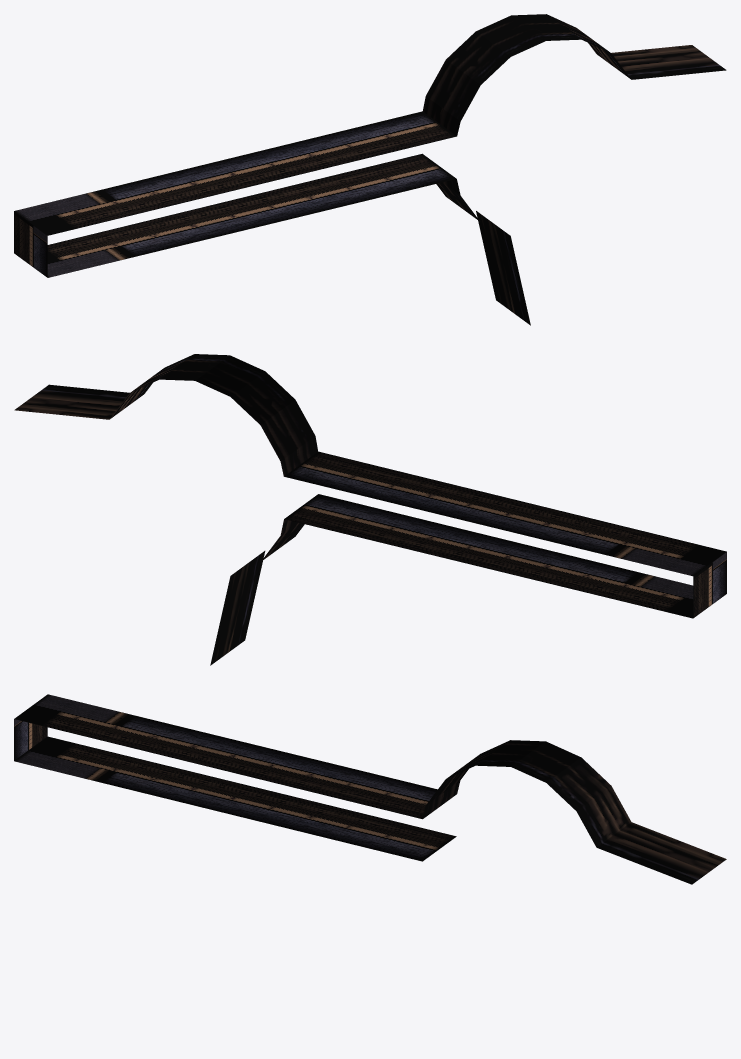
The model's file is collide_DoorXCorner1.obj.
3 views of the same model, one above another, from view 1: azimuth 30°, elevation 25°; view 2: azimuth 150°, elevation 25°; view 3: azimuth 330°, elevation 25° (orthographic).
Visible parts, largest first — view 1: collide_DoorXCorner1_Cube.005, object 2; view 2: collide_DoorXCorner1_Cube.005, object 2; view 3: collide_DoorXCorner1_Cube.005, object 2.
Boxes of the visible parts, bbox=[...] form: collide_DoorXCorner1_Cube.005: bbox=[14, 111, 456, 277]; object 2: bbox=[423, 14, 726, 325]; collide_DoorXCorner1_Cube.005: bbox=[284, 451, 726, 618]; object 2: bbox=[14, 354, 317, 665]; collide_DoorXCorner1_Cube.005: bbox=[14, 694, 456, 861]; object 2: bbox=[423, 740, 726, 884].
Size of the model in its own units: 499 by 198 by 44.53.
